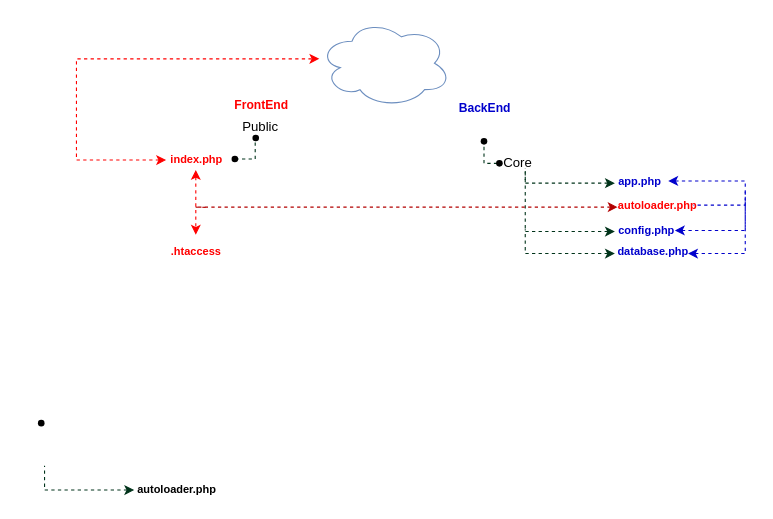
The diagram is 773 pixels wide and 519 high, and some of its shapes have lost their labels. Each missing label, with the box of its shape:
Private: (461, 118, 506, 163)
URL: (318, 18, 451, 107)
